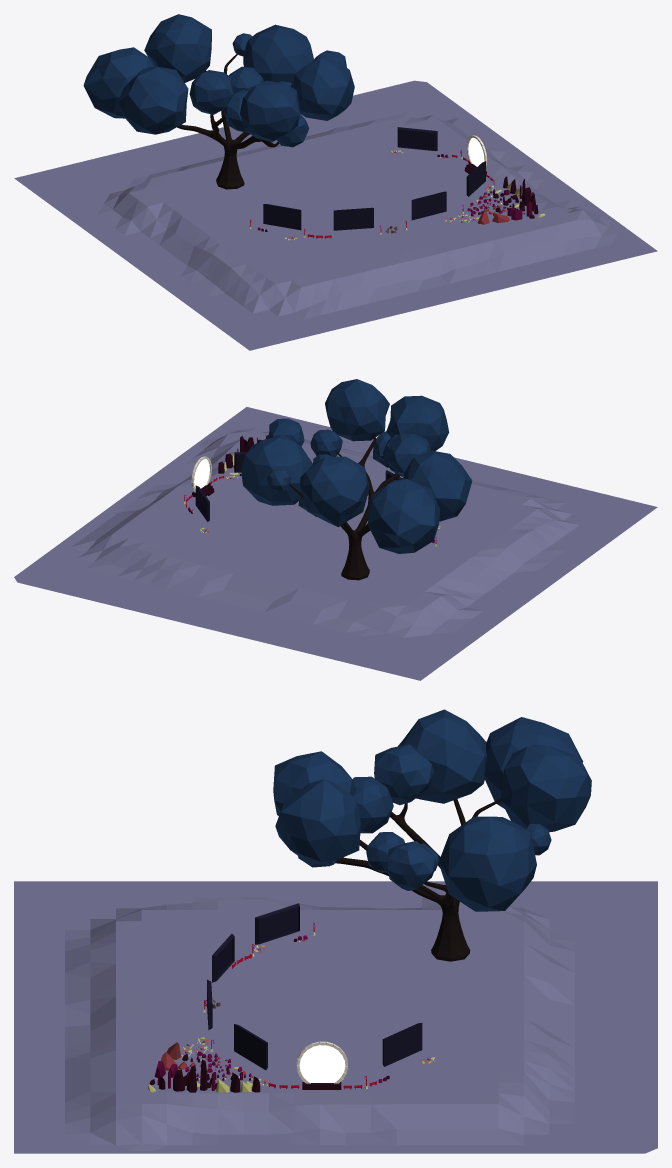
Rendered from forestOfNiko3.glb.
3 renders of one model, top to bottom at view 1: azimuth 30°, elevation 25°; view 2: azimuth 150°, elevation 25°; view 3: azimuth 270°, elevation 25°, orthographic. The views are drawn at different scales.
Visible parts, largest first — view 1: land, Icosphere, Plane, blogFrame, eldiaFrame, twitterFrame, taxleFrame; view 2: land, Icosphere, Plane; view 3: land, Icosphere, Plane, portalCircle, twitterFrame, eldiaFrame, cvFrame, blogFrame.
Boxes of the visible parts, left/top/right/bottom form: land: left=14, top=80, right=657, bottom=350; Icosphere: left=83, top=14, right=354, bottom=147; Plane: left=177, top=52, right=279, bottom=189; blogFrame: left=333, top=207, right=373, bottom=230; eldiaFrame: left=397, top=127, right=437, bottom=151; twitterFrame: left=263, top=204, right=301, bottom=230; taxleFrame: left=411, top=191, right=446, bottom=220; land: left=14, top=407, right=657, bottom=680; Icosphere: left=241, top=379, right=472, bottom=553; Plane: left=289, top=434, right=399, bottom=580; land: left=14, top=881, right=657, bottom=1153; Icosphere: left=273, top=709, right=591, bottom=911; Plane: left=335, top=799, right=524, bottom=961; portalCircle: left=299, top=1045, right=345, bottom=1082; twitterFrame: left=255, top=903, right=299, bottom=944; eldiaFrame: left=382, top=1023, right=422, bottom=1066; cvFrame: left=234, top=1024, right=267, bottom=1070; blogFrame: left=212, top=933, right=234, bottom=982.
Size of what is drawn, in the model's own units: 32.72 by 12.65 by 32.72.
